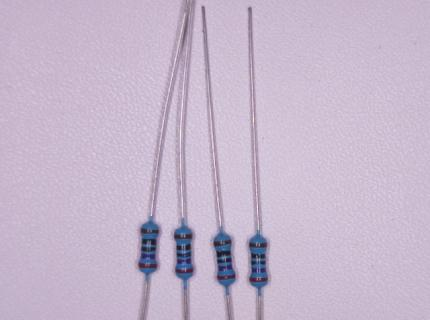Black band: (216, 250, 232, 257), (142, 238, 157, 245), (176, 243, 191, 250), (177, 251, 192, 258), (217, 257, 232, 263), (251, 253, 266, 259), (141, 246, 156, 251), (251, 261, 265, 265)
Brown band: (140, 227, 159, 234), (213, 239, 231, 246), (174, 233, 192, 239), (249, 242, 267, 248)
Red band: (175, 266, 194, 274), (216, 273, 235, 280), (138, 262, 158, 268), (249, 277, 268, 282)
Violet band: (218, 264, 233, 271), (141, 253, 156, 259), (177, 258, 191, 264), (252, 268, 266, 273)
